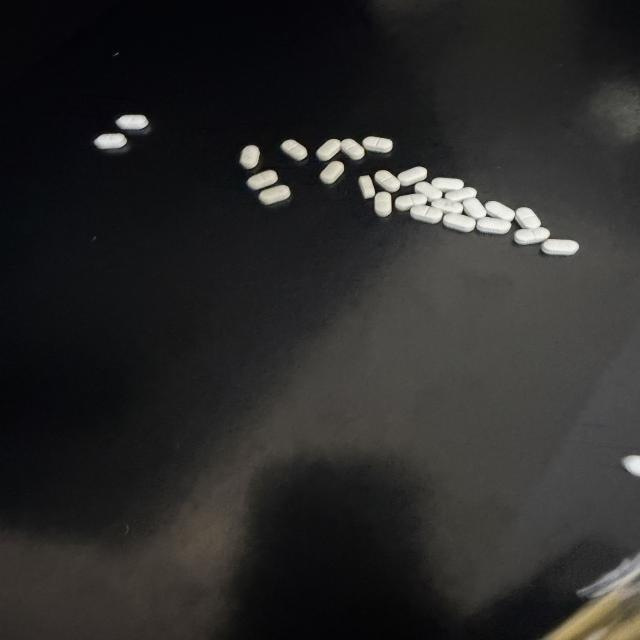pill: (443, 213, 476, 232), (247, 170, 278, 190), (514, 227, 550, 244), (476, 217, 511, 234), (410, 205, 443, 223), (259, 185, 290, 204), (485, 201, 514, 221), (374, 170, 400, 192), (541, 240, 579, 255), (320, 161, 344, 184), (398, 167, 427, 186), (239, 144, 260, 170), (395, 194, 427, 211), (414, 182, 442, 201), (316, 139, 340, 161), (94, 133, 127, 149), (281, 140, 307, 160), (463, 198, 486, 220), (515, 208, 540, 228), (341, 139, 364, 160), (116, 115, 148, 130), (363, 137, 392, 153), (432, 178, 464, 192), (432, 199, 463, 213), (445, 187, 476, 201), (358, 175, 376, 199), (374, 192, 391, 216), (621, 455, 639, 476)
